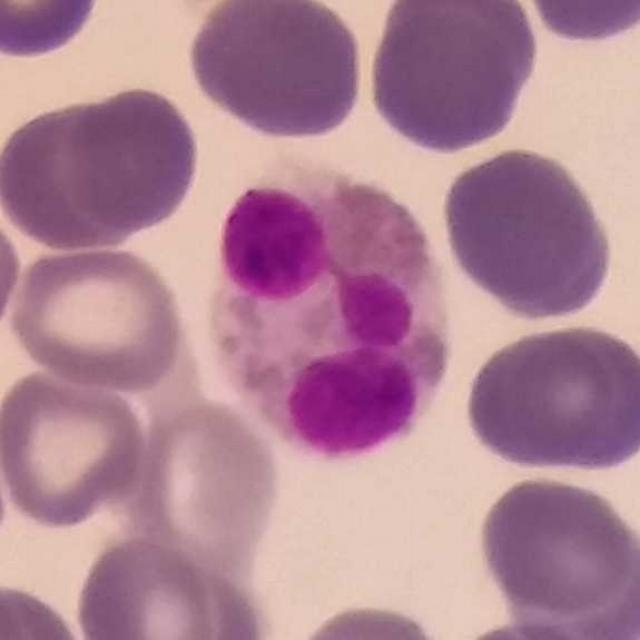Eosinophil: (208, 162, 457, 466)
RBC: (436, 141, 619, 324), (8, 242, 194, 396), (462, 320, 639, 478), (183, 0, 370, 144), (126, 394, 286, 561), (362, 3, 532, 157), (0, 361, 152, 533), (474, 472, 638, 623), (0, 91, 144, 255), (64, 81, 204, 237), (85, 533, 236, 640), (283, 597, 456, 640), (0, 0, 107, 62), (513, 0, 639, 48), (0, 576, 90, 640), (468, 616, 632, 640), (0, 219, 24, 326)
